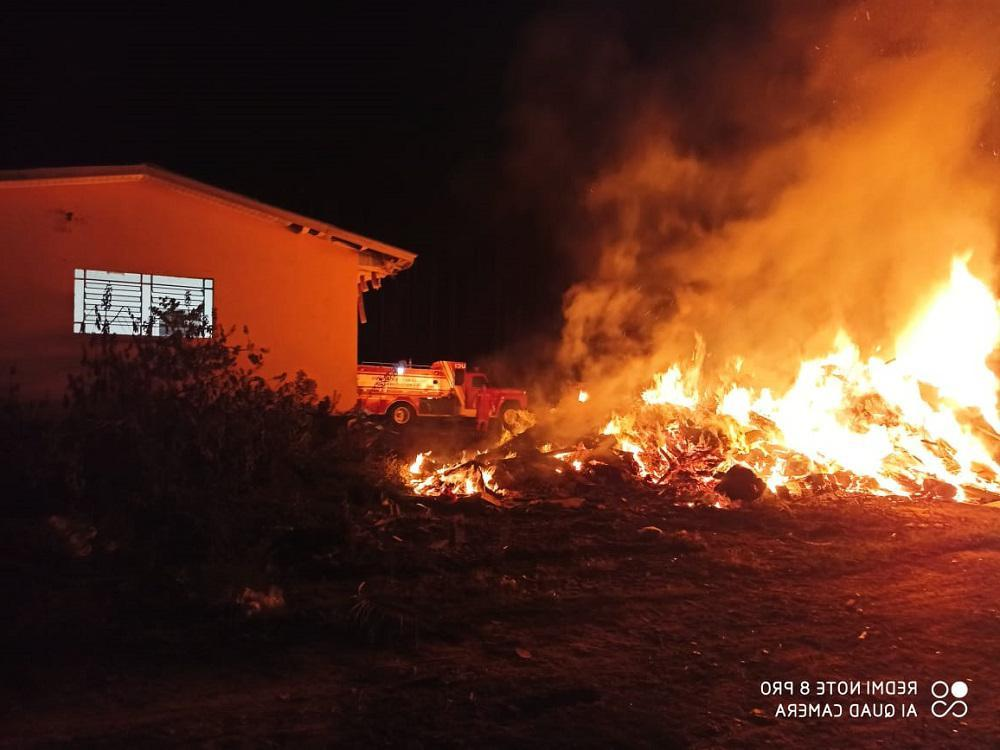Fire: (716, 251, 997, 494), (409, 453, 501, 507), (605, 416, 649, 483), (640, 361, 700, 409)
